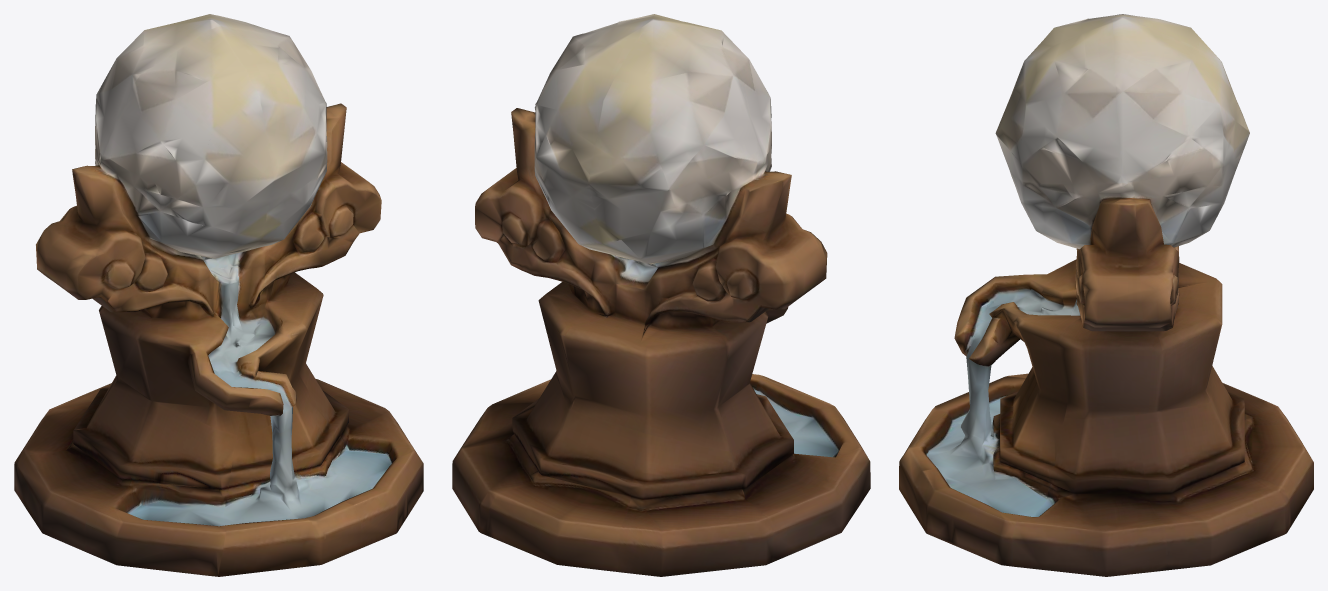
Rendered from ganhe_bing_xin.glb.
3 renders of one model, left to right at view 1: azimuth 30°, elevation 25°; view 2: azimuth 150°, elevation 25°; view 3: azimuth 270°, elevation 25°, orthographic. The views are drawn at different scales.
Parts seen in each view (by area): view 1: tripo_node_e13456cc-6965-4260-bac9-6b70b91526f8; view 2: tripo_node_e13456cc-6965-4260-bac9-6b70b91526f8; view 3: tripo_node_e13456cc-6965-4260-bac9-6b70b91526f8.
Boxes of the visible parts, x1=… form: tripo_node_e13456cc-6965-4260-bac9-6b70b91526f8: x1=14, y1=14, x2=423, y2=576; tripo_node_e13456cc-6965-4260-bac9-6b70b91526f8: x1=452, y1=14, x2=870, y2=576; tripo_node_e13456cc-6965-4260-bac9-6b70b91526f8: x1=899, y1=14, x2=1313, y2=576.
Bounding box in the file's own units: 0.7961 × 1 × 0.7965.
1 material, 1 textured.
